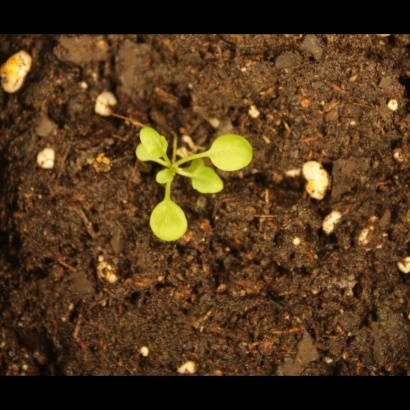leaf: (209, 131, 260, 174), (148, 199, 188, 242), (191, 164, 225, 197), (140, 125, 169, 156), (156, 166, 179, 189), (133, 140, 156, 163)
